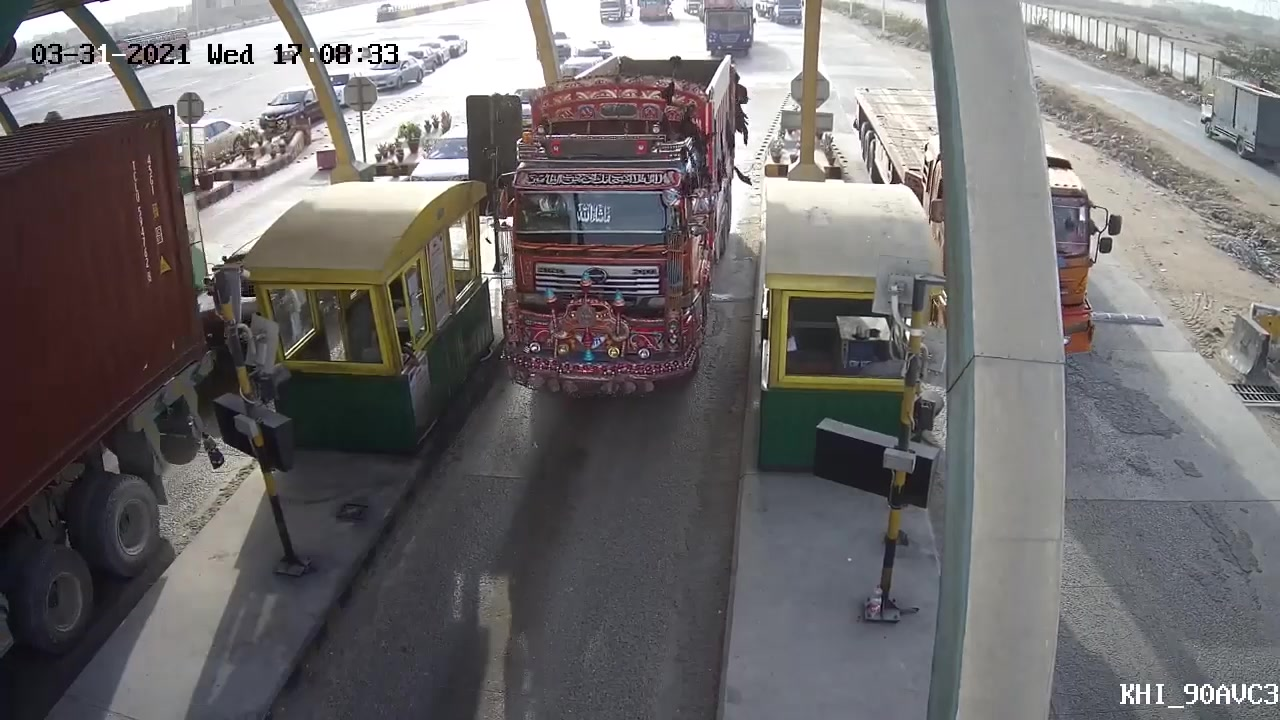F5: (483, 59, 734, 399)
